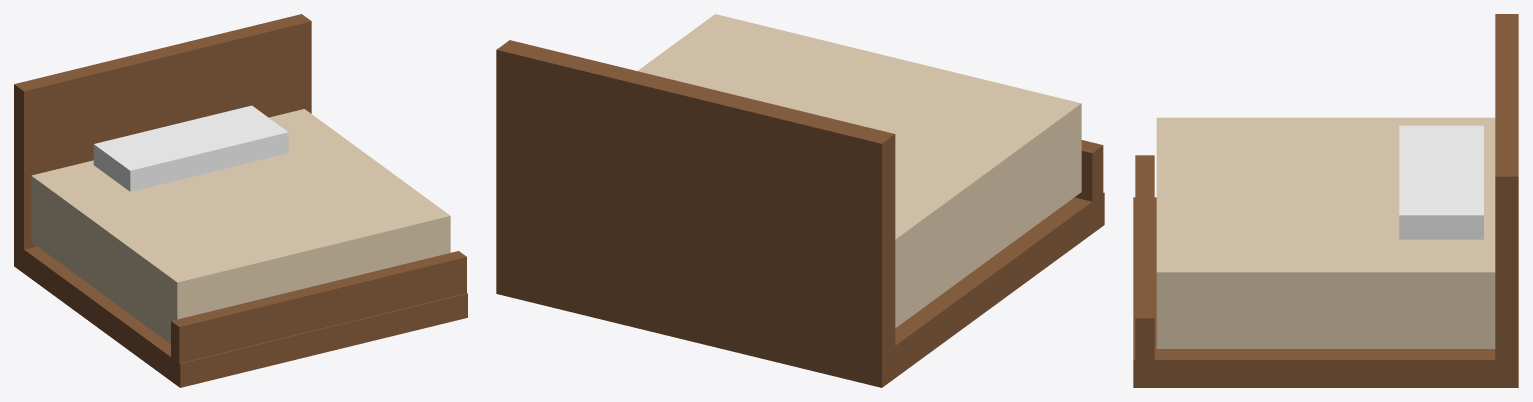
Rendered from bed.gltf.
3 renders of one model, left to right at view 1: azimuth 30°, elevation 25°; view 2: azimuth 150°, elevation 25°; view 3: azimuth 270°, elevation 25°, orthographic. The views are drawn at different scales.
Parts seen in each view (by area): view 1: mattress, headboard, frame, footboard, pillow; view 2: headboard, mattress, frame, footboard; view 3: mattress, frame, pillow, headboard, footboard.
Boxes of the visible parts, x1=… form: mattress: x1=31, y1=109, x2=450, y2=343; headboard: x1=14, y1=14, x2=311, y2=256; frame: x1=14, y1=243, x2=467, y2=387; footboard: x1=171, y1=251, x2=466, y2=363; pillow: x1=93, y1=105, x2=288, y2=191; headboard: x1=496, y1=40, x2=895, y2=365; mattress: x1=637, y1=14, x2=1081, y2=327; frame: x1=496, y1=192, x2=1104, y2=387; footboard: x1=1075, y1=140, x2=1103, y2=226; mattress: x1=1156, y1=117, x2=1495, y2=348; frame: x1=1133, y1=197, x2=1518, y2=387; pillow: x1=1399, y1=125, x2=1483, y2=239; headboard: x1=1495, y1=14, x2=1518, y2=368; footboard: x1=1135, y1=155, x2=1154, y2=387.
Size of the model in its own units: 1 by 0.605 by 1.
